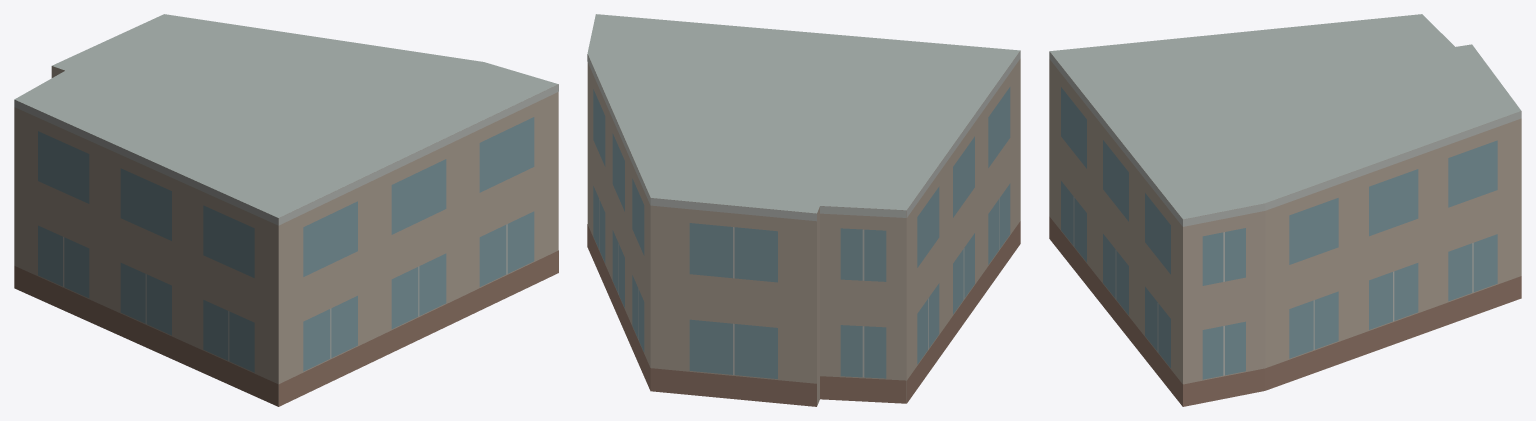
File: survey-upis-32595555.glb
3 renders of one model, left to right at view 1: azimuth 30°, elevation 25°; view 2: azimuth 150°, elevation 25°; view 3: azimuth 270°, elevation 25°, orthographic. The views are drawn at different scales.
Parts seen in each view (by area): view 1: survey-upis-32595555.tmp; view 2: survey-upis-32595555.tmp; view 3: survey-upis-32595555.tmp.
Part boxes in pixels (x1=…): survey-upis-32595555.tmp: x1=14, y1=14, x2=558, y2=406; survey-upis-32595555.tmp: x1=587, y1=14, x2=1020, y2=406; survey-upis-32595555.tmp: x1=1049, y1=14, x2=1521, y2=406.
Bounding box in the file's own units: 14.35 × 6.1 × 13.94.
